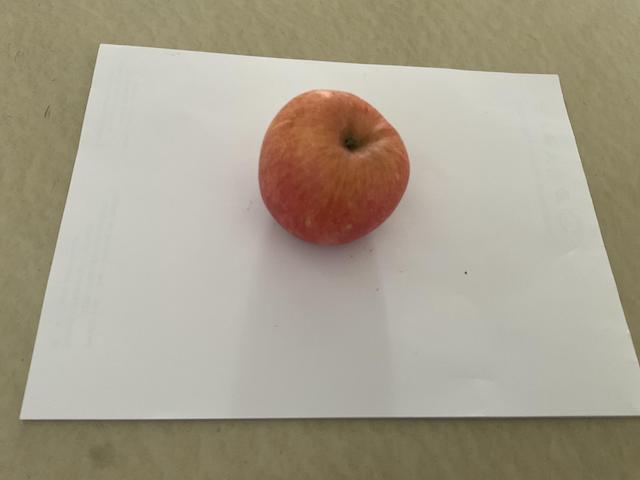apple: (255, 83, 416, 253)
